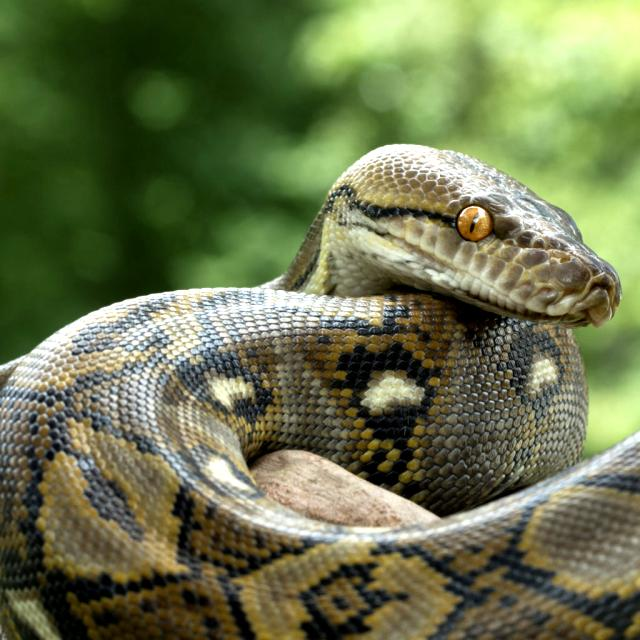Malayopython reticulatus: (0, 145, 639, 639)
